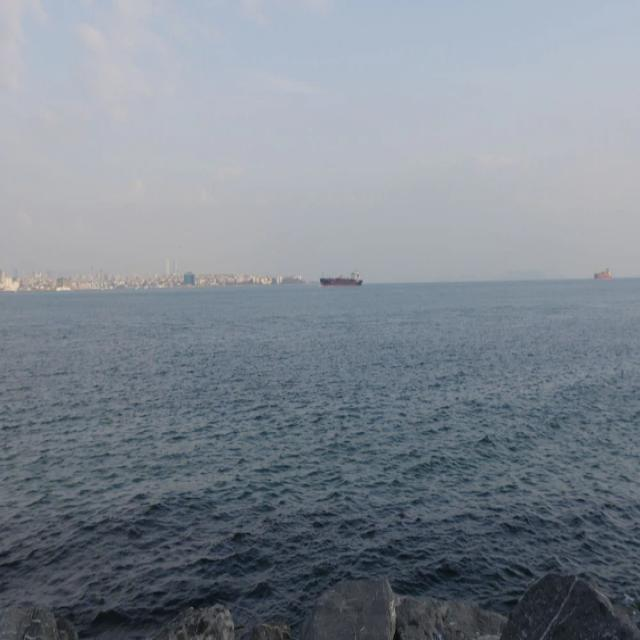cargoship: (319, 266, 364, 287), (594, 266, 614, 280)
